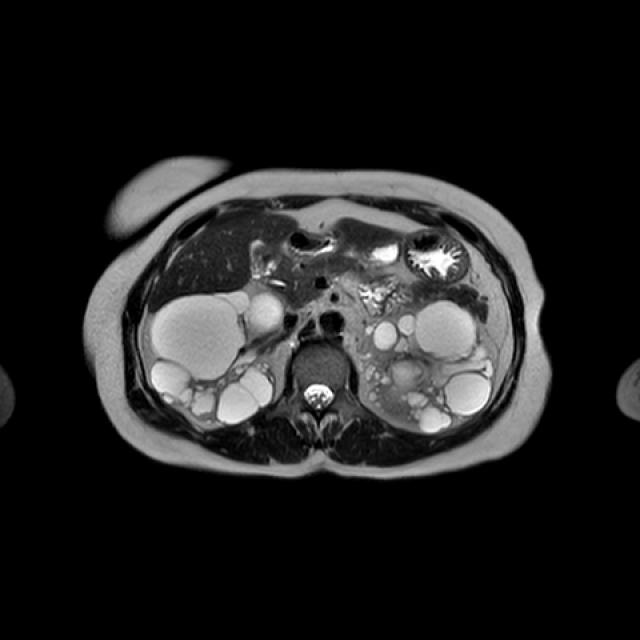sag: (148, 289, 285, 423)
sol: (356, 302, 495, 431)
